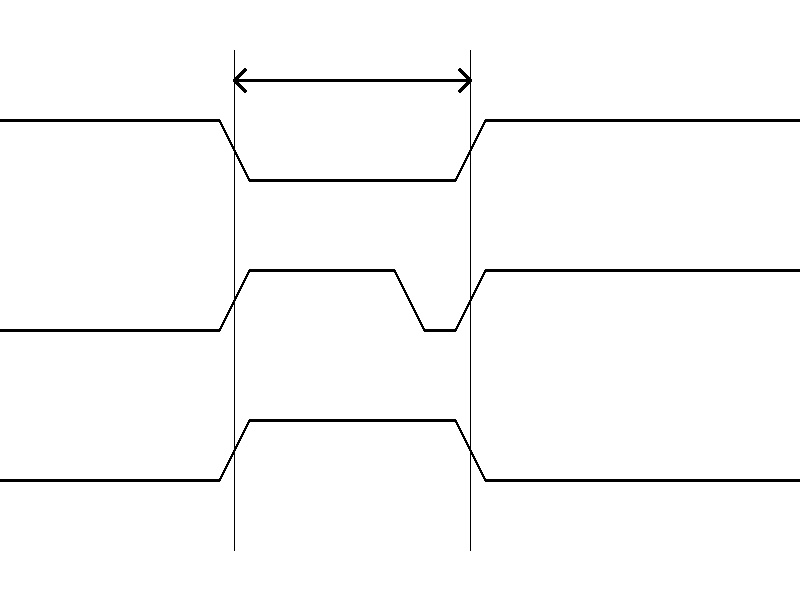double_arrow: (234, 65, 470, 95)
